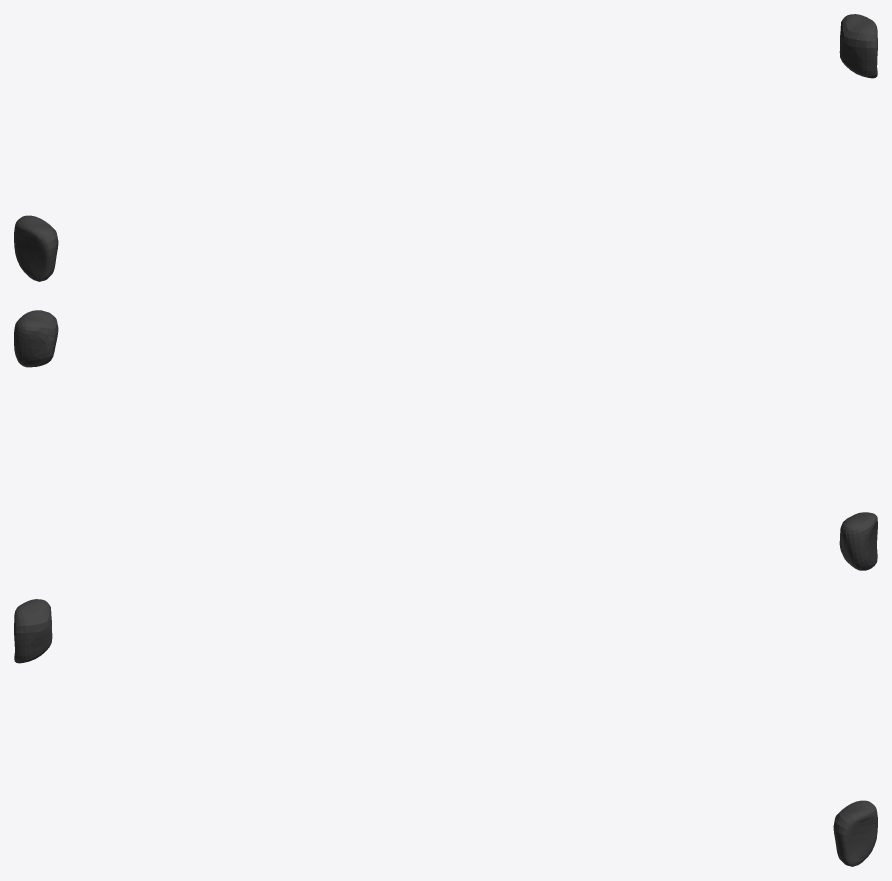
File: Sesamoid_bone_carpals_1.glb
The picture shows the model from 3 angles, top to bottom: view 1: azimuth 30°, elevation 25°; view 2: azimuth 150°, elevation 25°; view 3: azimuth 330°, elevation 25°; orthographic projection.
Visible parts, largest first — view 1: Sesamoid_bone_carpals_1; view 2: Sesamoid_bone_carpals_1; view 3: Sesamoid_bone_carpals_1.
Part boxes in pixels (x1=…): Sesamoid_bone_carpals_1: x1=14, y1=14, x2=877, y2=281; Sesamoid_bone_carpals_1: x1=14, y1=310, x2=877, y2=570; Sesamoid_bone_carpals_1: x1=14, y1=599, x2=877, y2=866.
Size of the model in its own units: 0.00236 by 0.000139 by 0.000135.
Materials: 1 (1 with a texture image).
